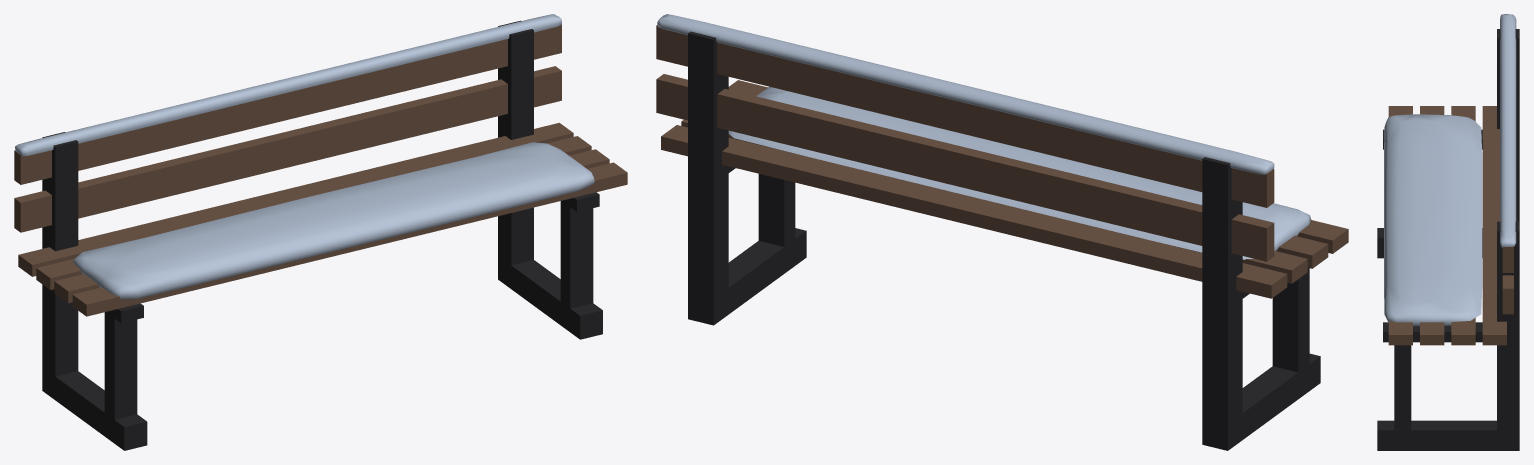
Rendered from bench.glb.
The picture shows the model from 3 angles, left to right: view 1: azimuth 30°, elevation 25°; view 2: azimuth 150°, elevation 25°; view 3: azimuth 270°, elevation 25°; orthographic projection. The views are drawn at different scales.
Parts seen in each view (by area): view 1: Prop; view 2: Prop; view 3: Prop.
Boxes of the visible parts, x1,y1,x2,y2 form: Prop: (14,14,627,450); Prop: (656,14,1348,450); Prop: (1377,14,1519,450).
Size of the model in its own units: 1.9 by 0.8667 by 0.5.
